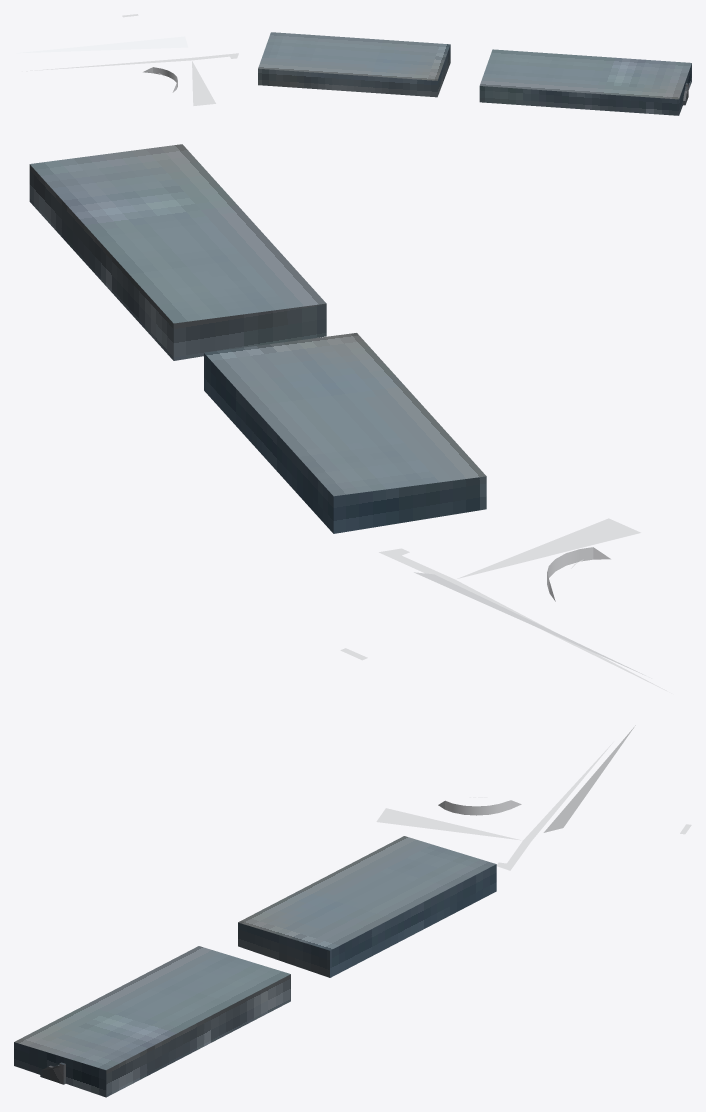
The picture shows the model from 3 angles, top to bottom: view 1: azimuth 30°, elevation 25°; view 2: azimuth 150°, elevation 25°; view 3: azimuth 270°, elevation 25°; orthographic projection. The views are drawn at different scales.
Parts seen in each view (by area): view 1: Buildings_建物パビリオン; view 2: Buildings_建物パビリオン; view 3: Buildings_建物パビリオン.
Boxes of the visible parts, x1,y1,x2,y2 form: Buildings_建物パビリオン: [16, 14, 691, 115]; Buildings_建物パビリオン: [29, 144, 671, 693]; Buildings_建物パビリオン: [14, 725, 691, 1097].
Size of the model in its own units: 258 by 10.42 by 209.
3 materials, 2 textured.
